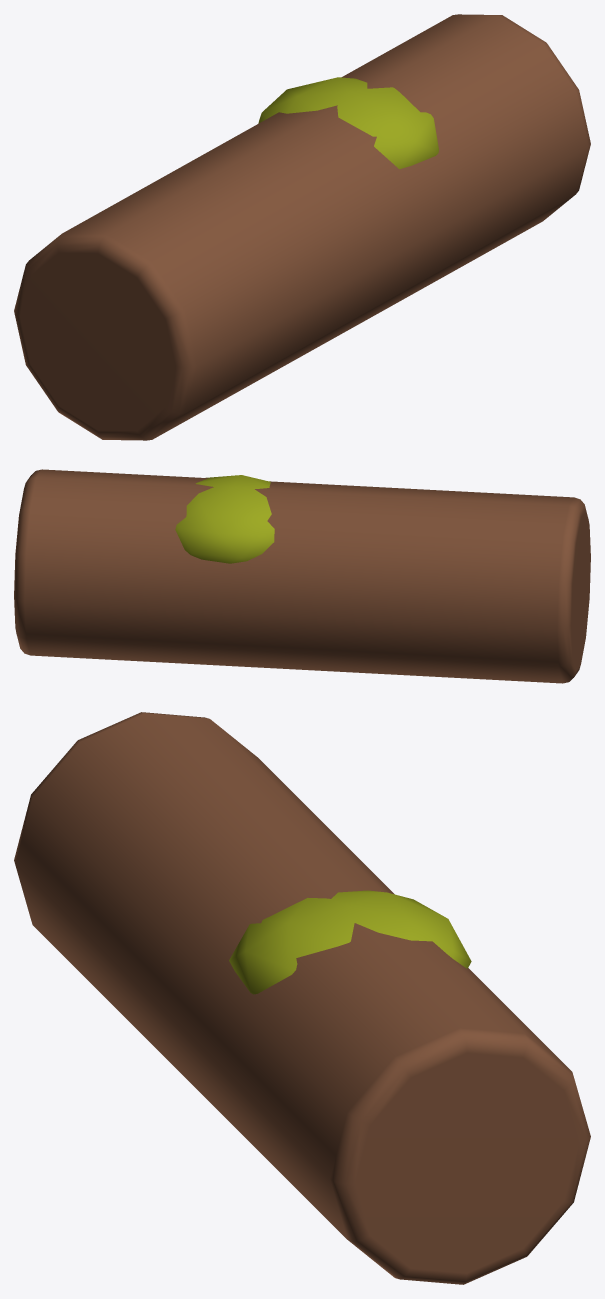
The model's file is prop_log.glb.
The picture shows the model from 3 angles, top to bottom: view 1: azimuth 30°, elevation 25°; view 2: azimuth 150°, elevation 25°; view 3: azimuth 270°, elevation 25°; orthographic projection. The views are drawn at different scales.
Parts seen in each view (by area): view 1: log, log_moss; view 2: log, log_moss; view 3: log, log_moss.
Boxes of the visible parts, x1,y1,x2,y2 form: log: [14, 14, 590, 440]; log_moss: [258, 77, 438, 169]; log: [14, 469, 590, 683]; log_moss: [175, 475, 274, 563]; log: [14, 712, 590, 1284]; log_moss: [229, 890, 471, 994].
Size of the model in its own units: 0.9328 by 0.305 by 0.6139.
